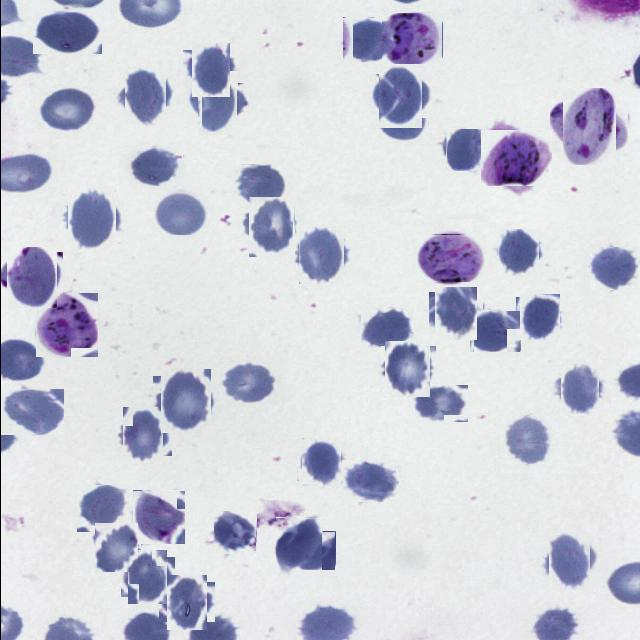gametocyte: (484, 126, 548, 190)
red blood cell: (156, 372, 213, 430), (62, 190, 119, 246), (32, 10, 101, 54), (0, 388, 64, 435), (373, 69, 427, 123), (244, 200, 297, 254), (191, 77, 243, 129), (295, 229, 347, 281), (37, 86, 95, 132), (153, 190, 209, 236), (120, 70, 170, 121), (381, 344, 432, 394), (218, 361, 277, 404), (544, 536, 594, 586), (275, 517, 322, 570), (76, 485, 128, 532), (118, 411, 167, 460), (504, 415, 552, 464), (342, 460, 398, 502), (162, 578, 210, 626), (431, 289, 479, 337), (342, 17, 392, 62), (233, 164, 286, 206), (411, 384, 468, 422), (128, 146, 182, 186), (358, 308, 412, 348), (469, 310, 520, 352), (124, 554, 170, 600), (186, 46, 232, 92), (92, 524, 138, 570), (589, 247, 637, 290), (378, 101, 427, 143), (556, 366, 600, 412), (495, 230, 540, 274), (298, 439, 342, 484), (516, 295, 560, 339), (213, 510, 256, 554), (446, 130, 486, 170), (296, 531, 335, 570)
ring: (3, 249, 59, 305), (132, 490, 185, 544)
trophozoite: (556, 94, 620, 160), (35, 292, 98, 357), (416, 234, 485, 282), (381, 12, 442, 66)
